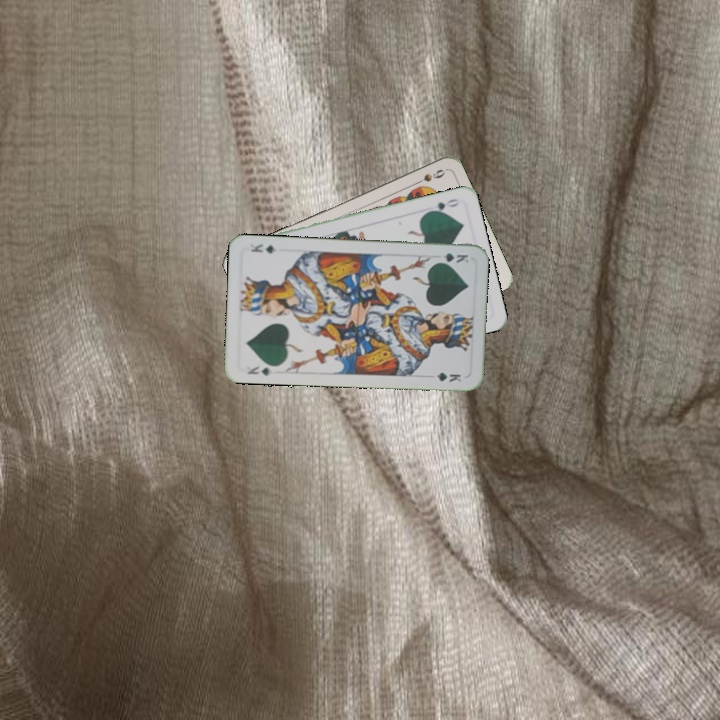GK: (432, 249, 471, 266), (243, 361, 272, 378)
GO: (423, 195, 462, 216)
S9: (409, 165, 448, 188)
